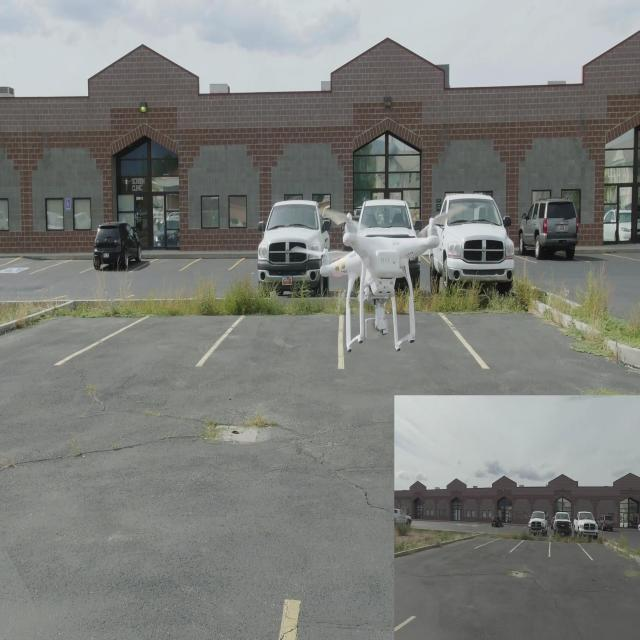drones: (307, 196, 473, 365)
